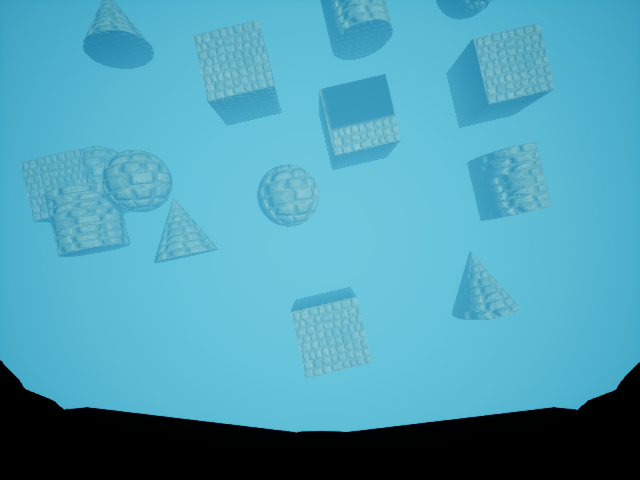box: (435, 23, 581, 133), (186, 22, 297, 130), (309, 73, 413, 170), (280, 284, 385, 378)
cone: (445, 237, 543, 338), (68, 0, 178, 73), (135, 184, 224, 270)
cylinder: (458, 137, 574, 225), (39, 183, 136, 262)
sphere: (251, 158, 327, 227), (93, 148, 176, 211)
